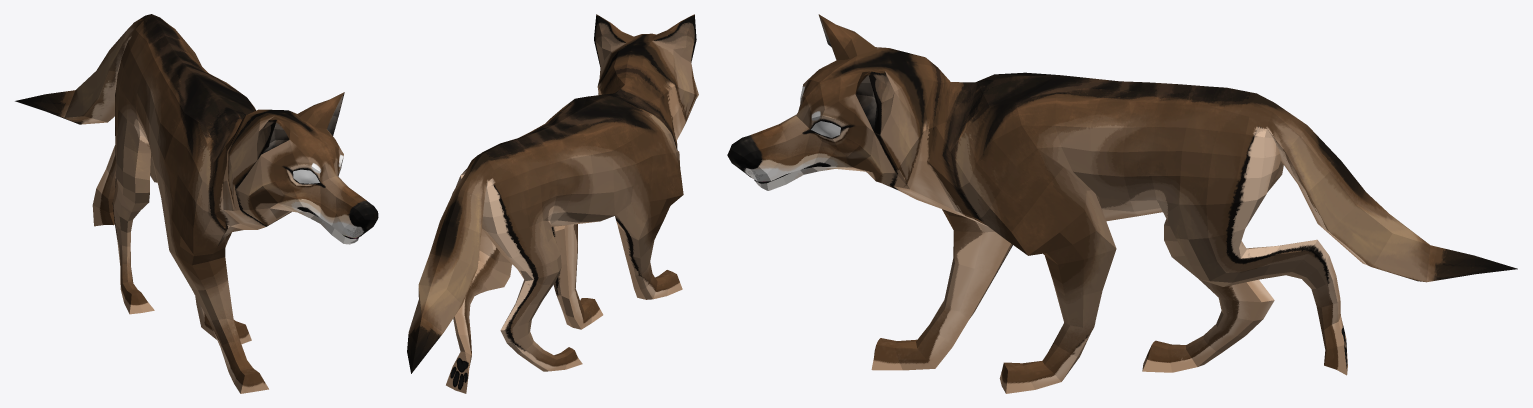
The model's file is Low Poly Wolf Posed.glb.
The picture shows the model from 3 angles, left to right: view 1: azimuth 30°, elevation 25°; view 2: azimuth 150°, elevation 25°; view 3: azimuth 270°, elevation 25°; orthographic projection. The views are drawn at different scales.
Visible parts, largest first — view 1: LPW_V0; view 2: LPW_V0; view 3: LPW_V0.
Boxes of the visible parts, left/top/right/bottom form: LPW_V0: left=15, top=14, right=378, bottom=393; LPW_V0: left=407, top=14, right=698, bottom=393; LPW_V0: left=727, top=14, right=1517, bottom=393.
Size of the model in its own units: 1.27 by 2.77 by 5.67.
3 materials, 2 textured.
